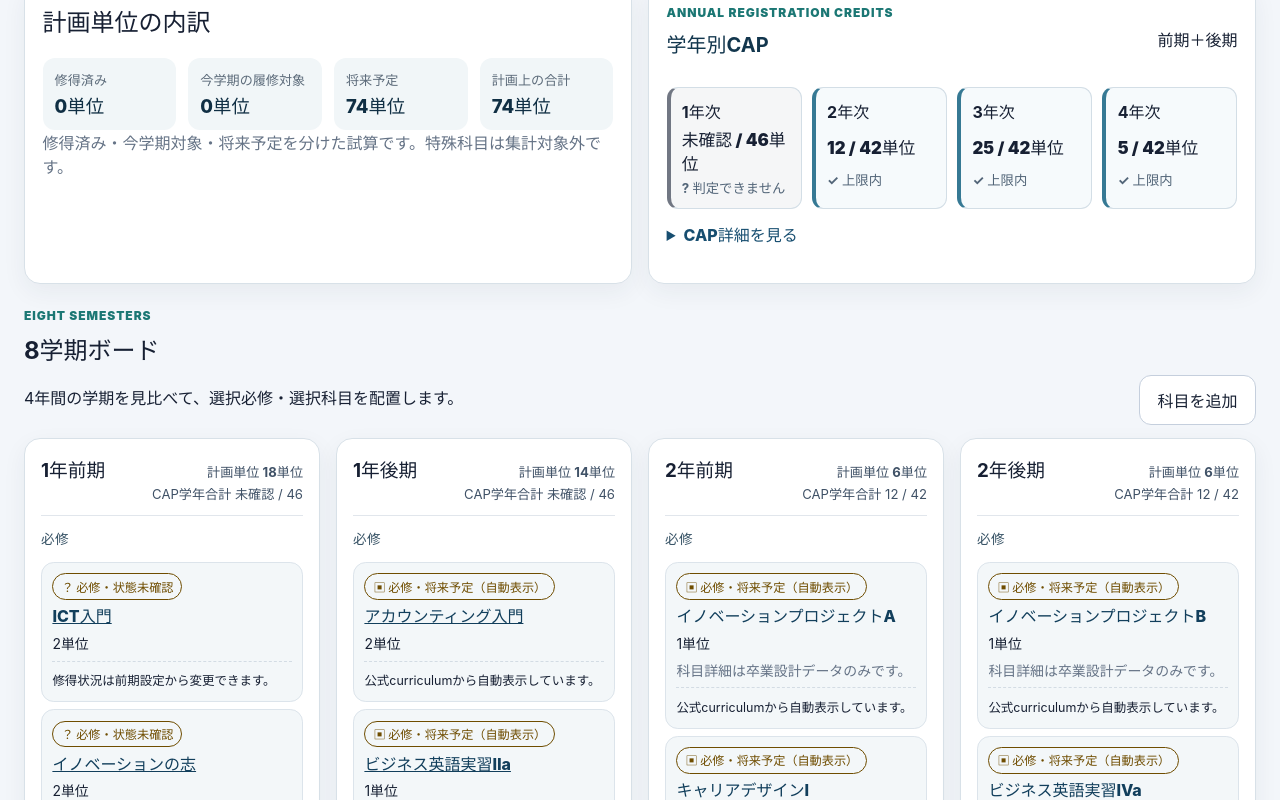
Test: Phase 11C graduation planning UI › 特殊科目だけを検索した場合は一般配置の対象外と説明する
(page scrolled)
Click the button "科目を追加" at point(1197, 400), box left=1139, top=376, right=1256, bottom=426
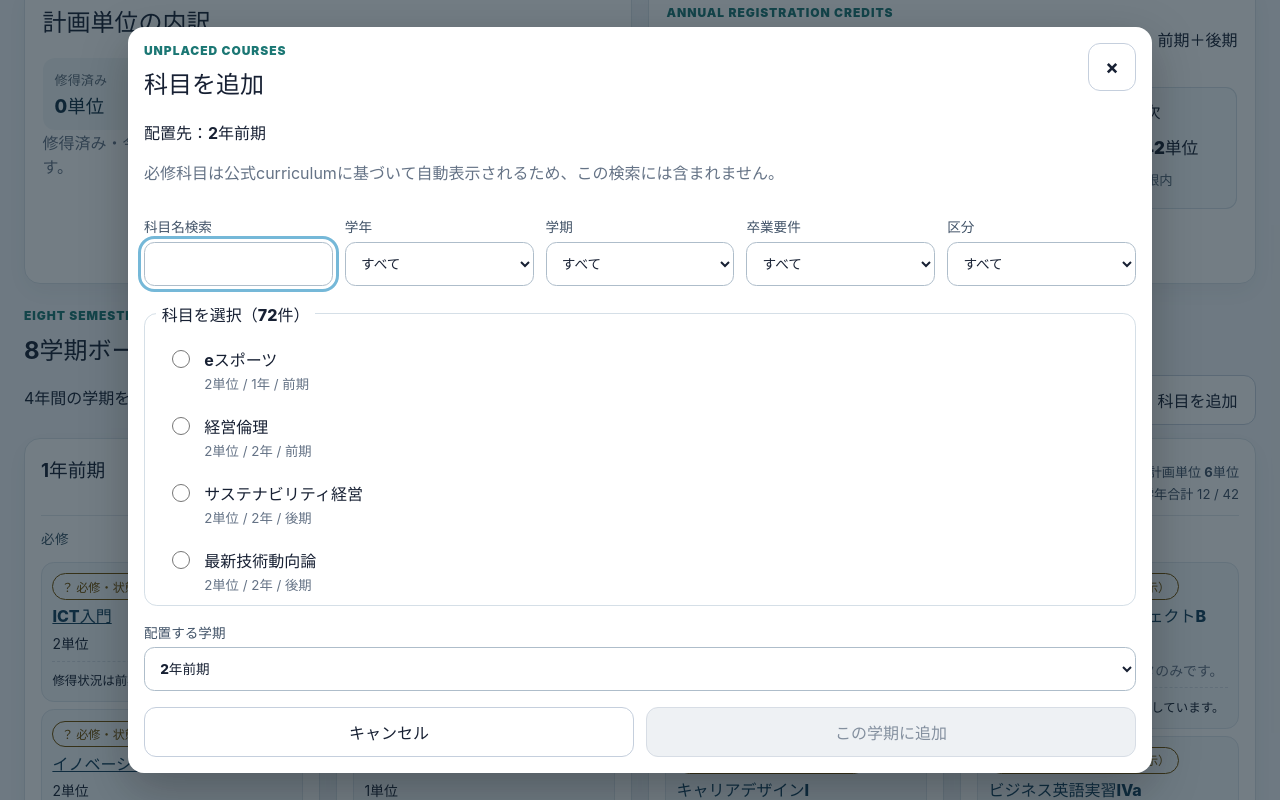
Type "イノベーション特講a" into the search field labelled "科目名検索" at point(238, 264), box left=144, top=242, right=333, bottom=286
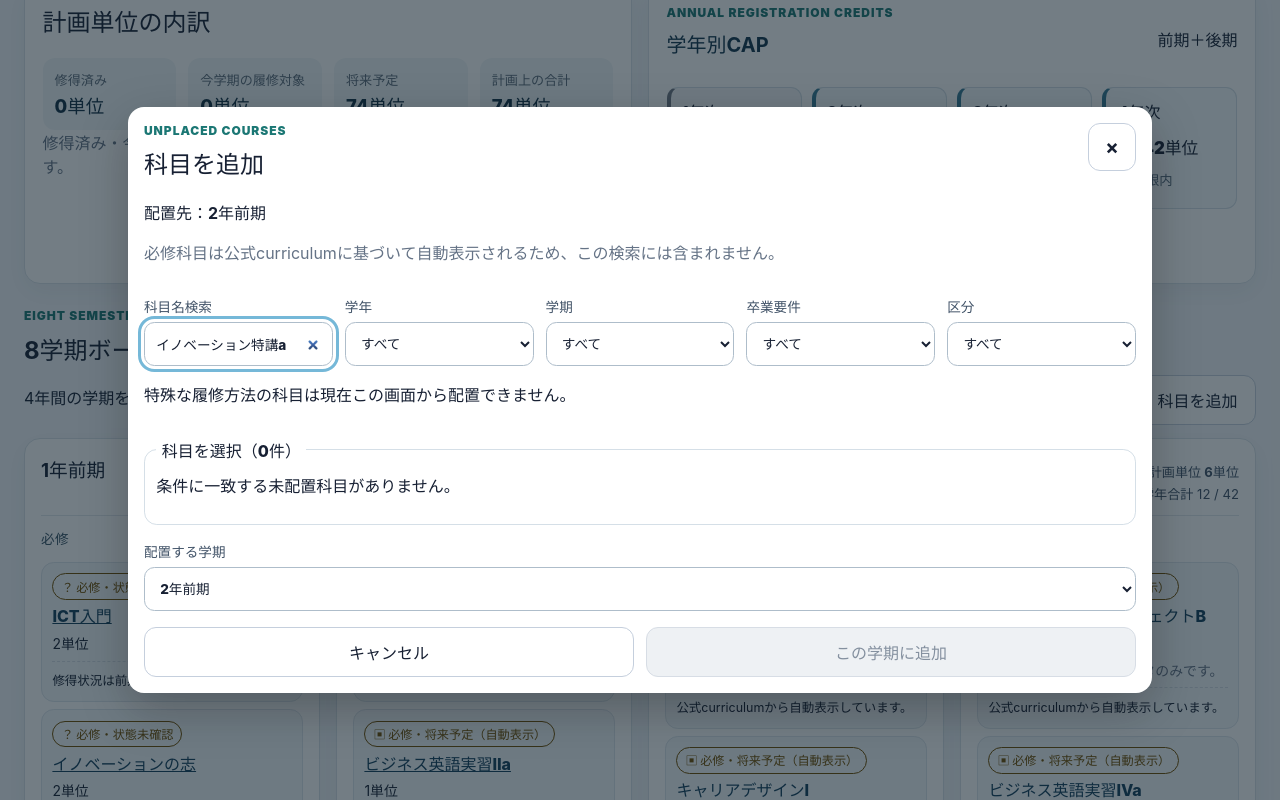
Expected: the text "特殊な履修方法の科目は現在この画面から配置できません。" is shown, left=144, top=385, right=576, bottom=405
